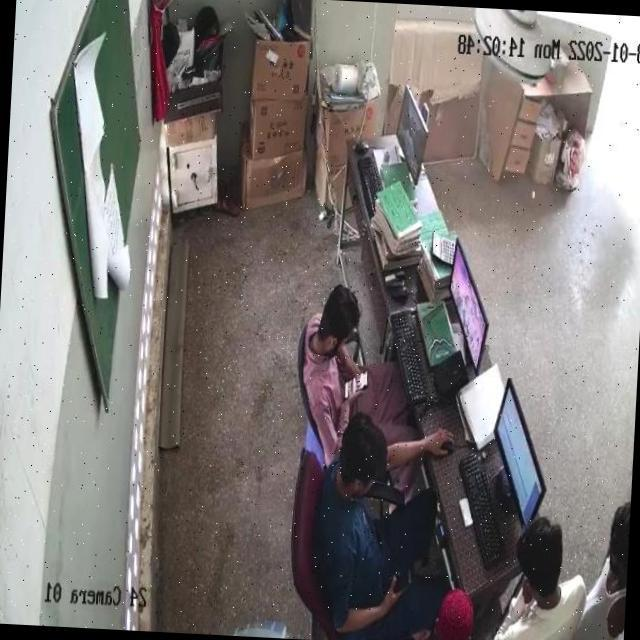person: (319, 428, 434, 614), (301, 284, 408, 454), (486, 519, 586, 640), (568, 492, 631, 640), (394, 582, 477, 640)
